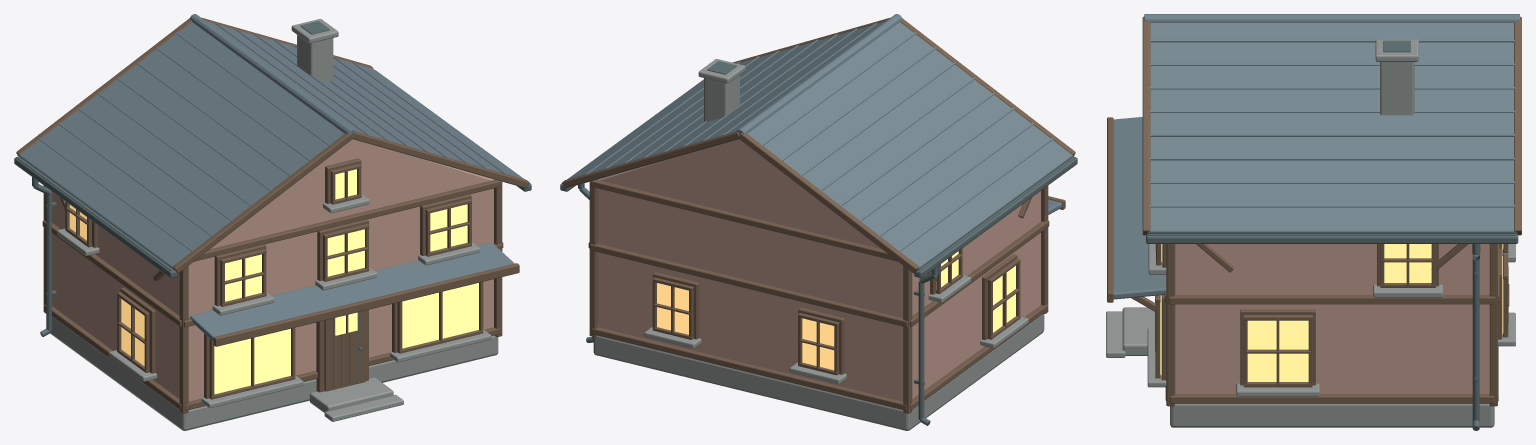
Rendered from SM_CanalShop.fbx.
3 renders of one model, left to right at view 1: azimuth 30°, elevation 25°; view 2: azimuth 150°, elevation 25°; view 3: azimuth 270°, elevation 25°, orthographic. The views are drawn at different scales.
Parts seen in each view (by area): view 1: SM_CanalShop; view 2: SM_CanalShop; view 3: SM_CanalShop.
Boxes of the visible parts, x1,y1,x2,y2 form: SM_CanalShop: (14, 14, 531, 430); SM_CanalShop: (560, 14, 1077, 430); SM_CanalShop: (1106, 14, 1521, 430).
Size of the model in its own units: 9.16 by 7.69 by 6.76.
